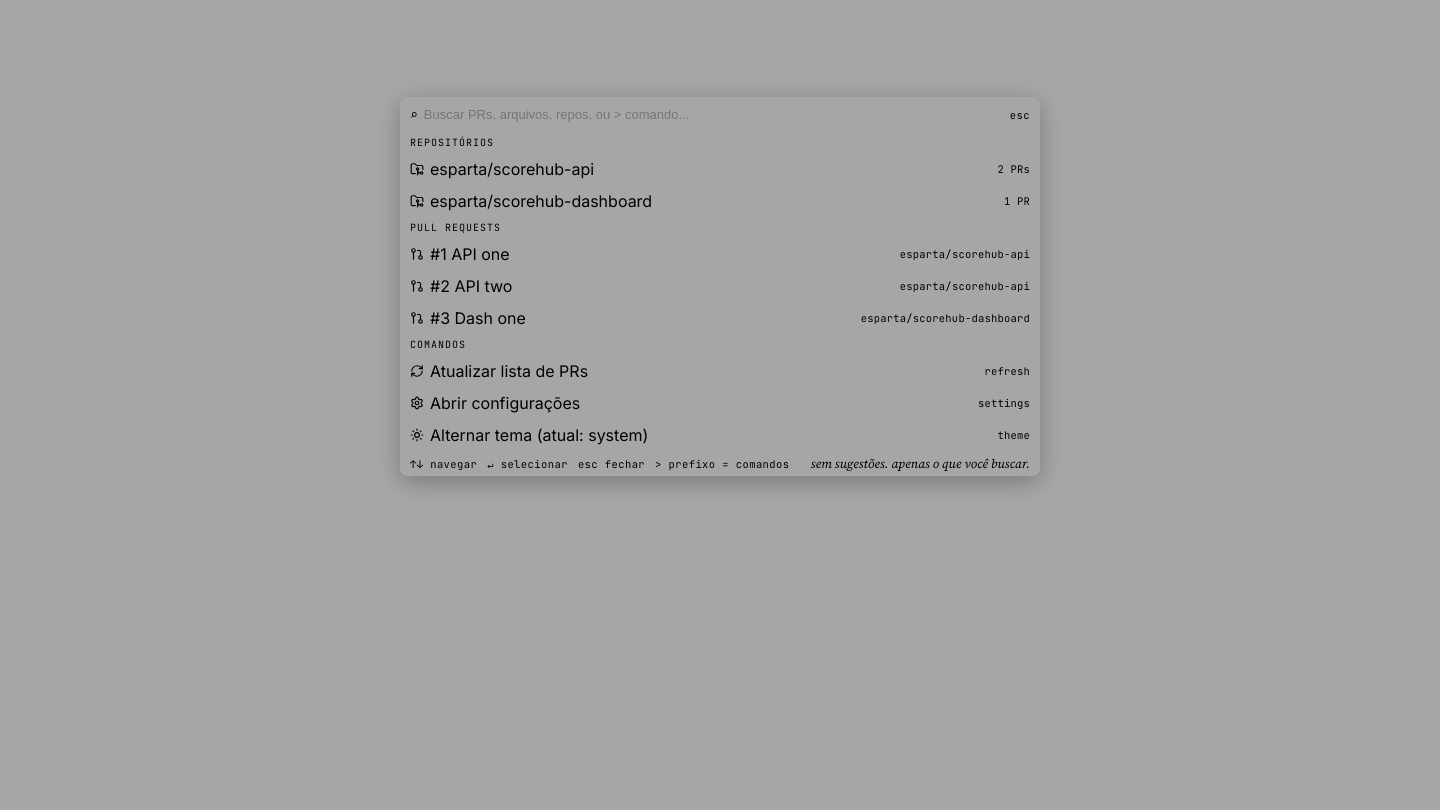
CommandPalette repo scope › Esc on scoped palette exits scope (does not close)
Click the option "esparta/scorehub-api 2 PRs". click: (512,169)
box: x1=400 y1=153 x2=1040 y2=185
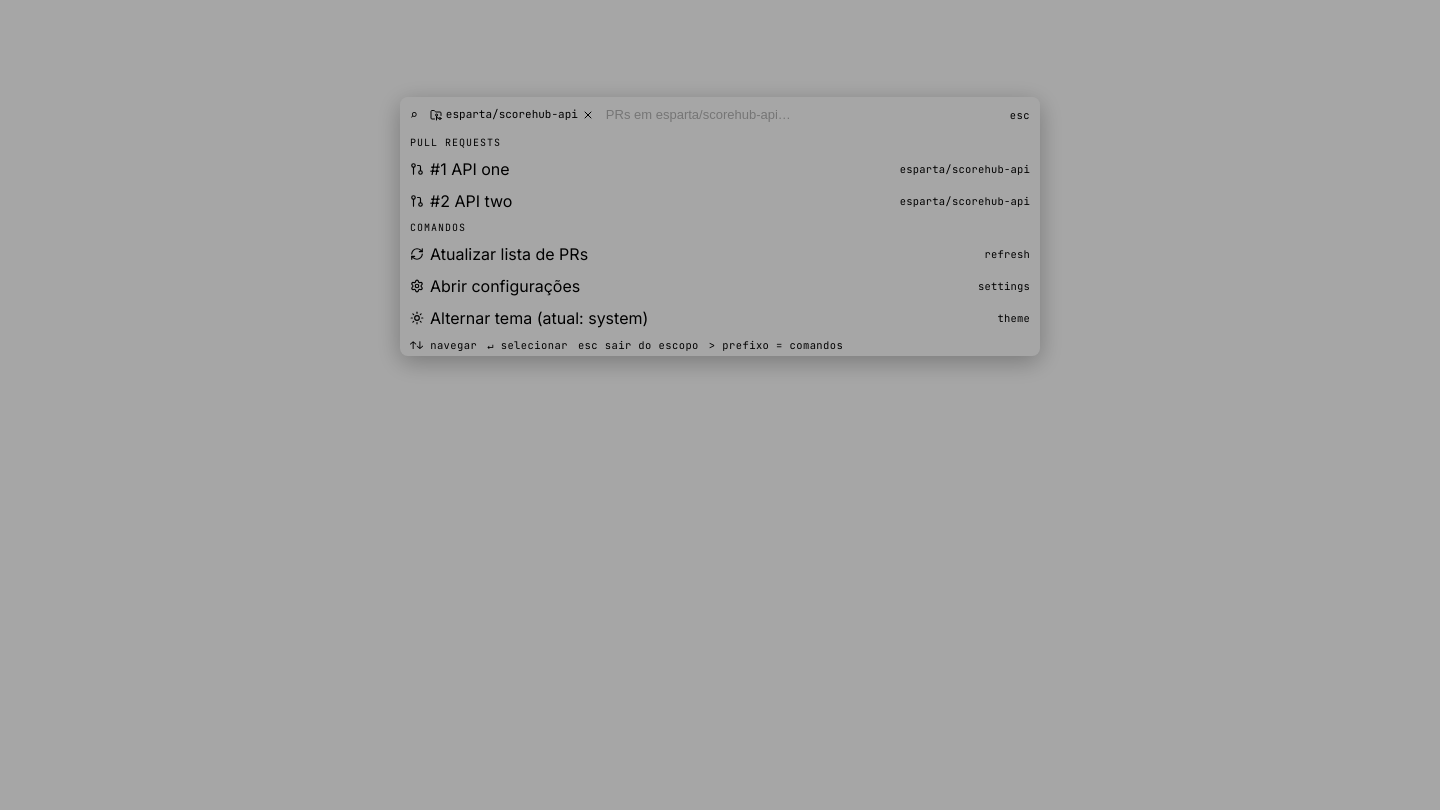
Press Escape in the field named "Buscar", box x1=606 y1=103 x2=1004 y2=126
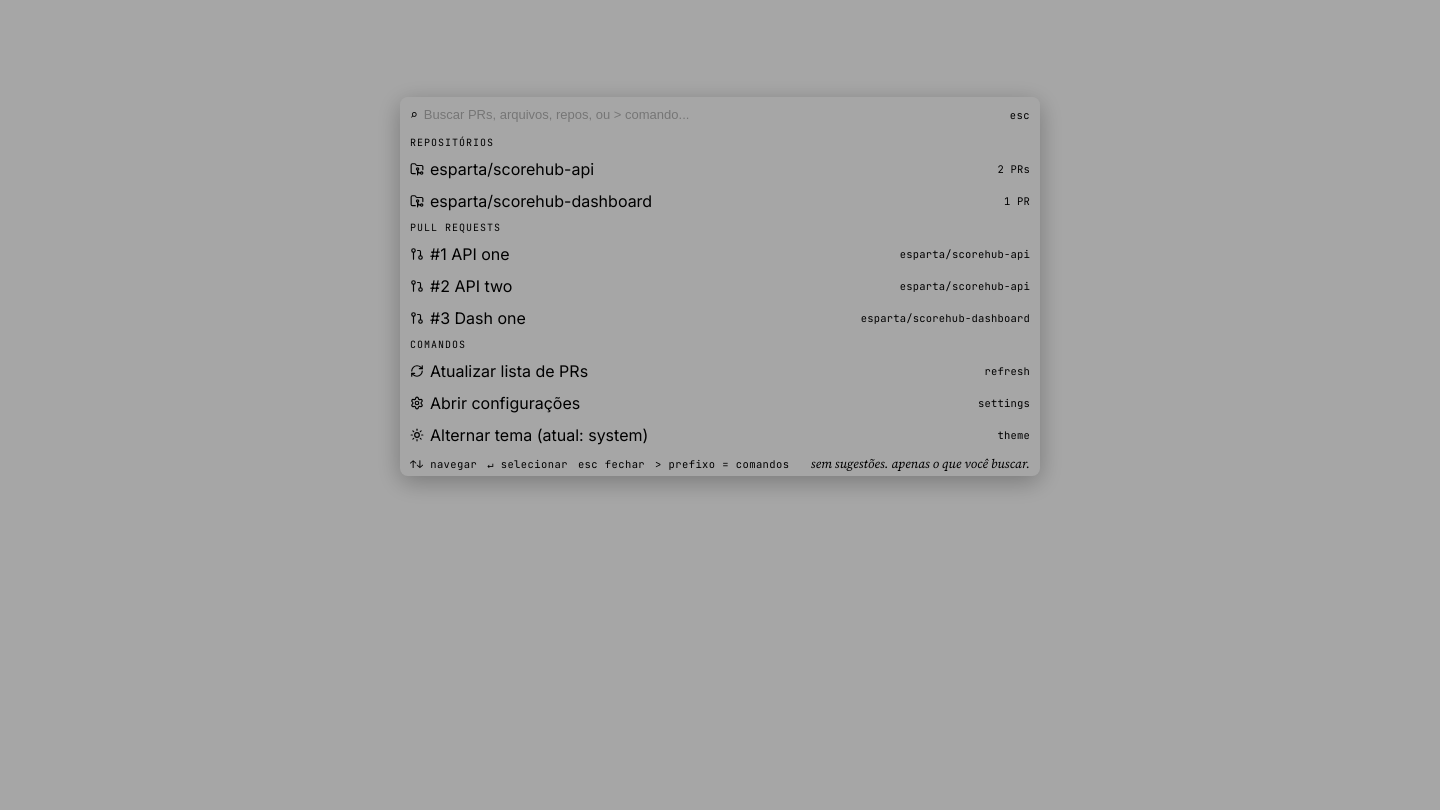
Expected: the text "sair do escopo" is gone
